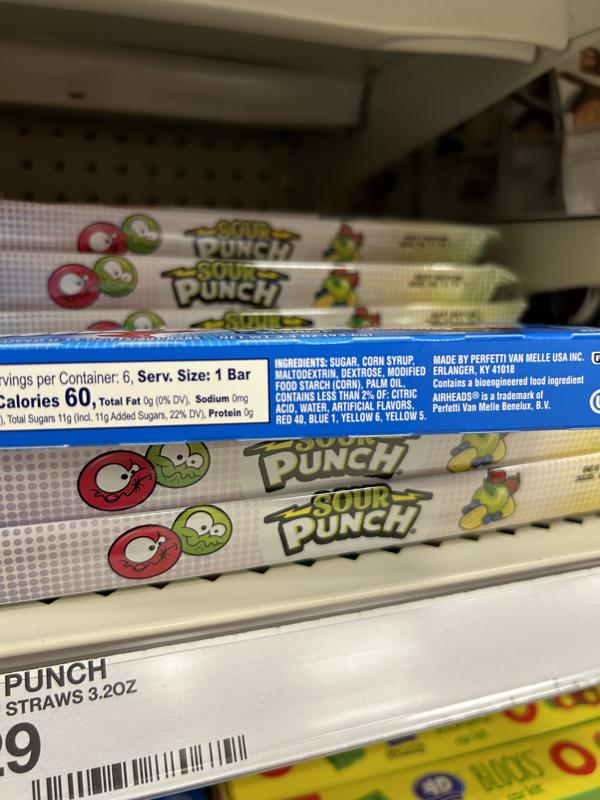ingredients: (271, 352, 430, 427)
